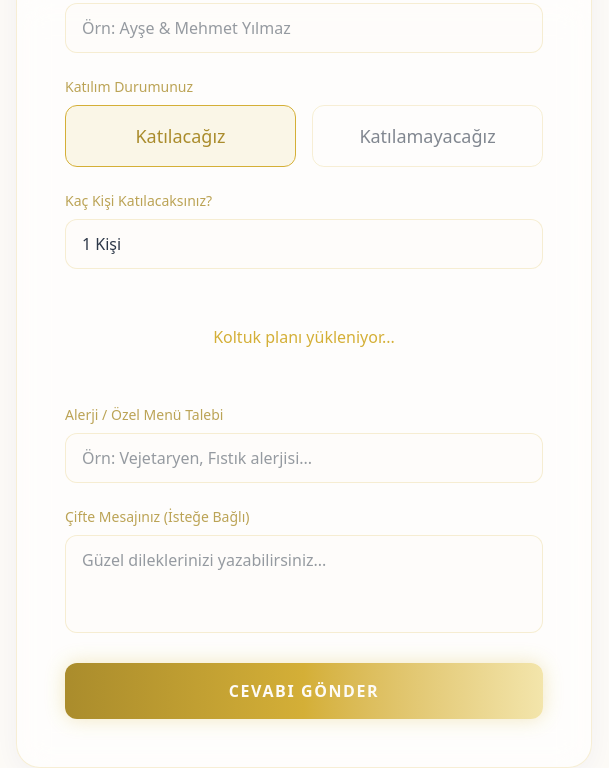
RSVPForm › shows the full-name validation message for an empty submission
The image size is (609, 768).
(page scrolled)
Click the button "Cevabı Gönder" at [304, 691], box [65, 663, 543, 719]
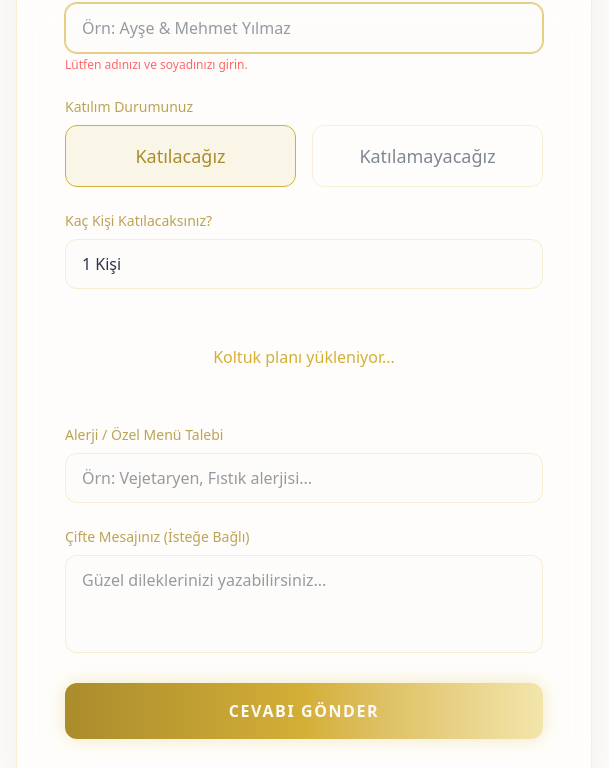
Now the text "Lütfen adınızı ve soyadınızı girin." is shown, box [65, 56, 248, 73]
